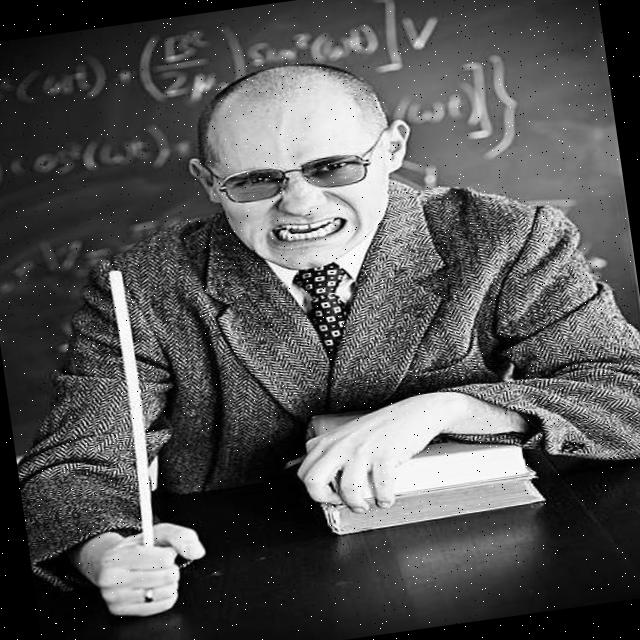Angry: (206, 90, 399, 280)
